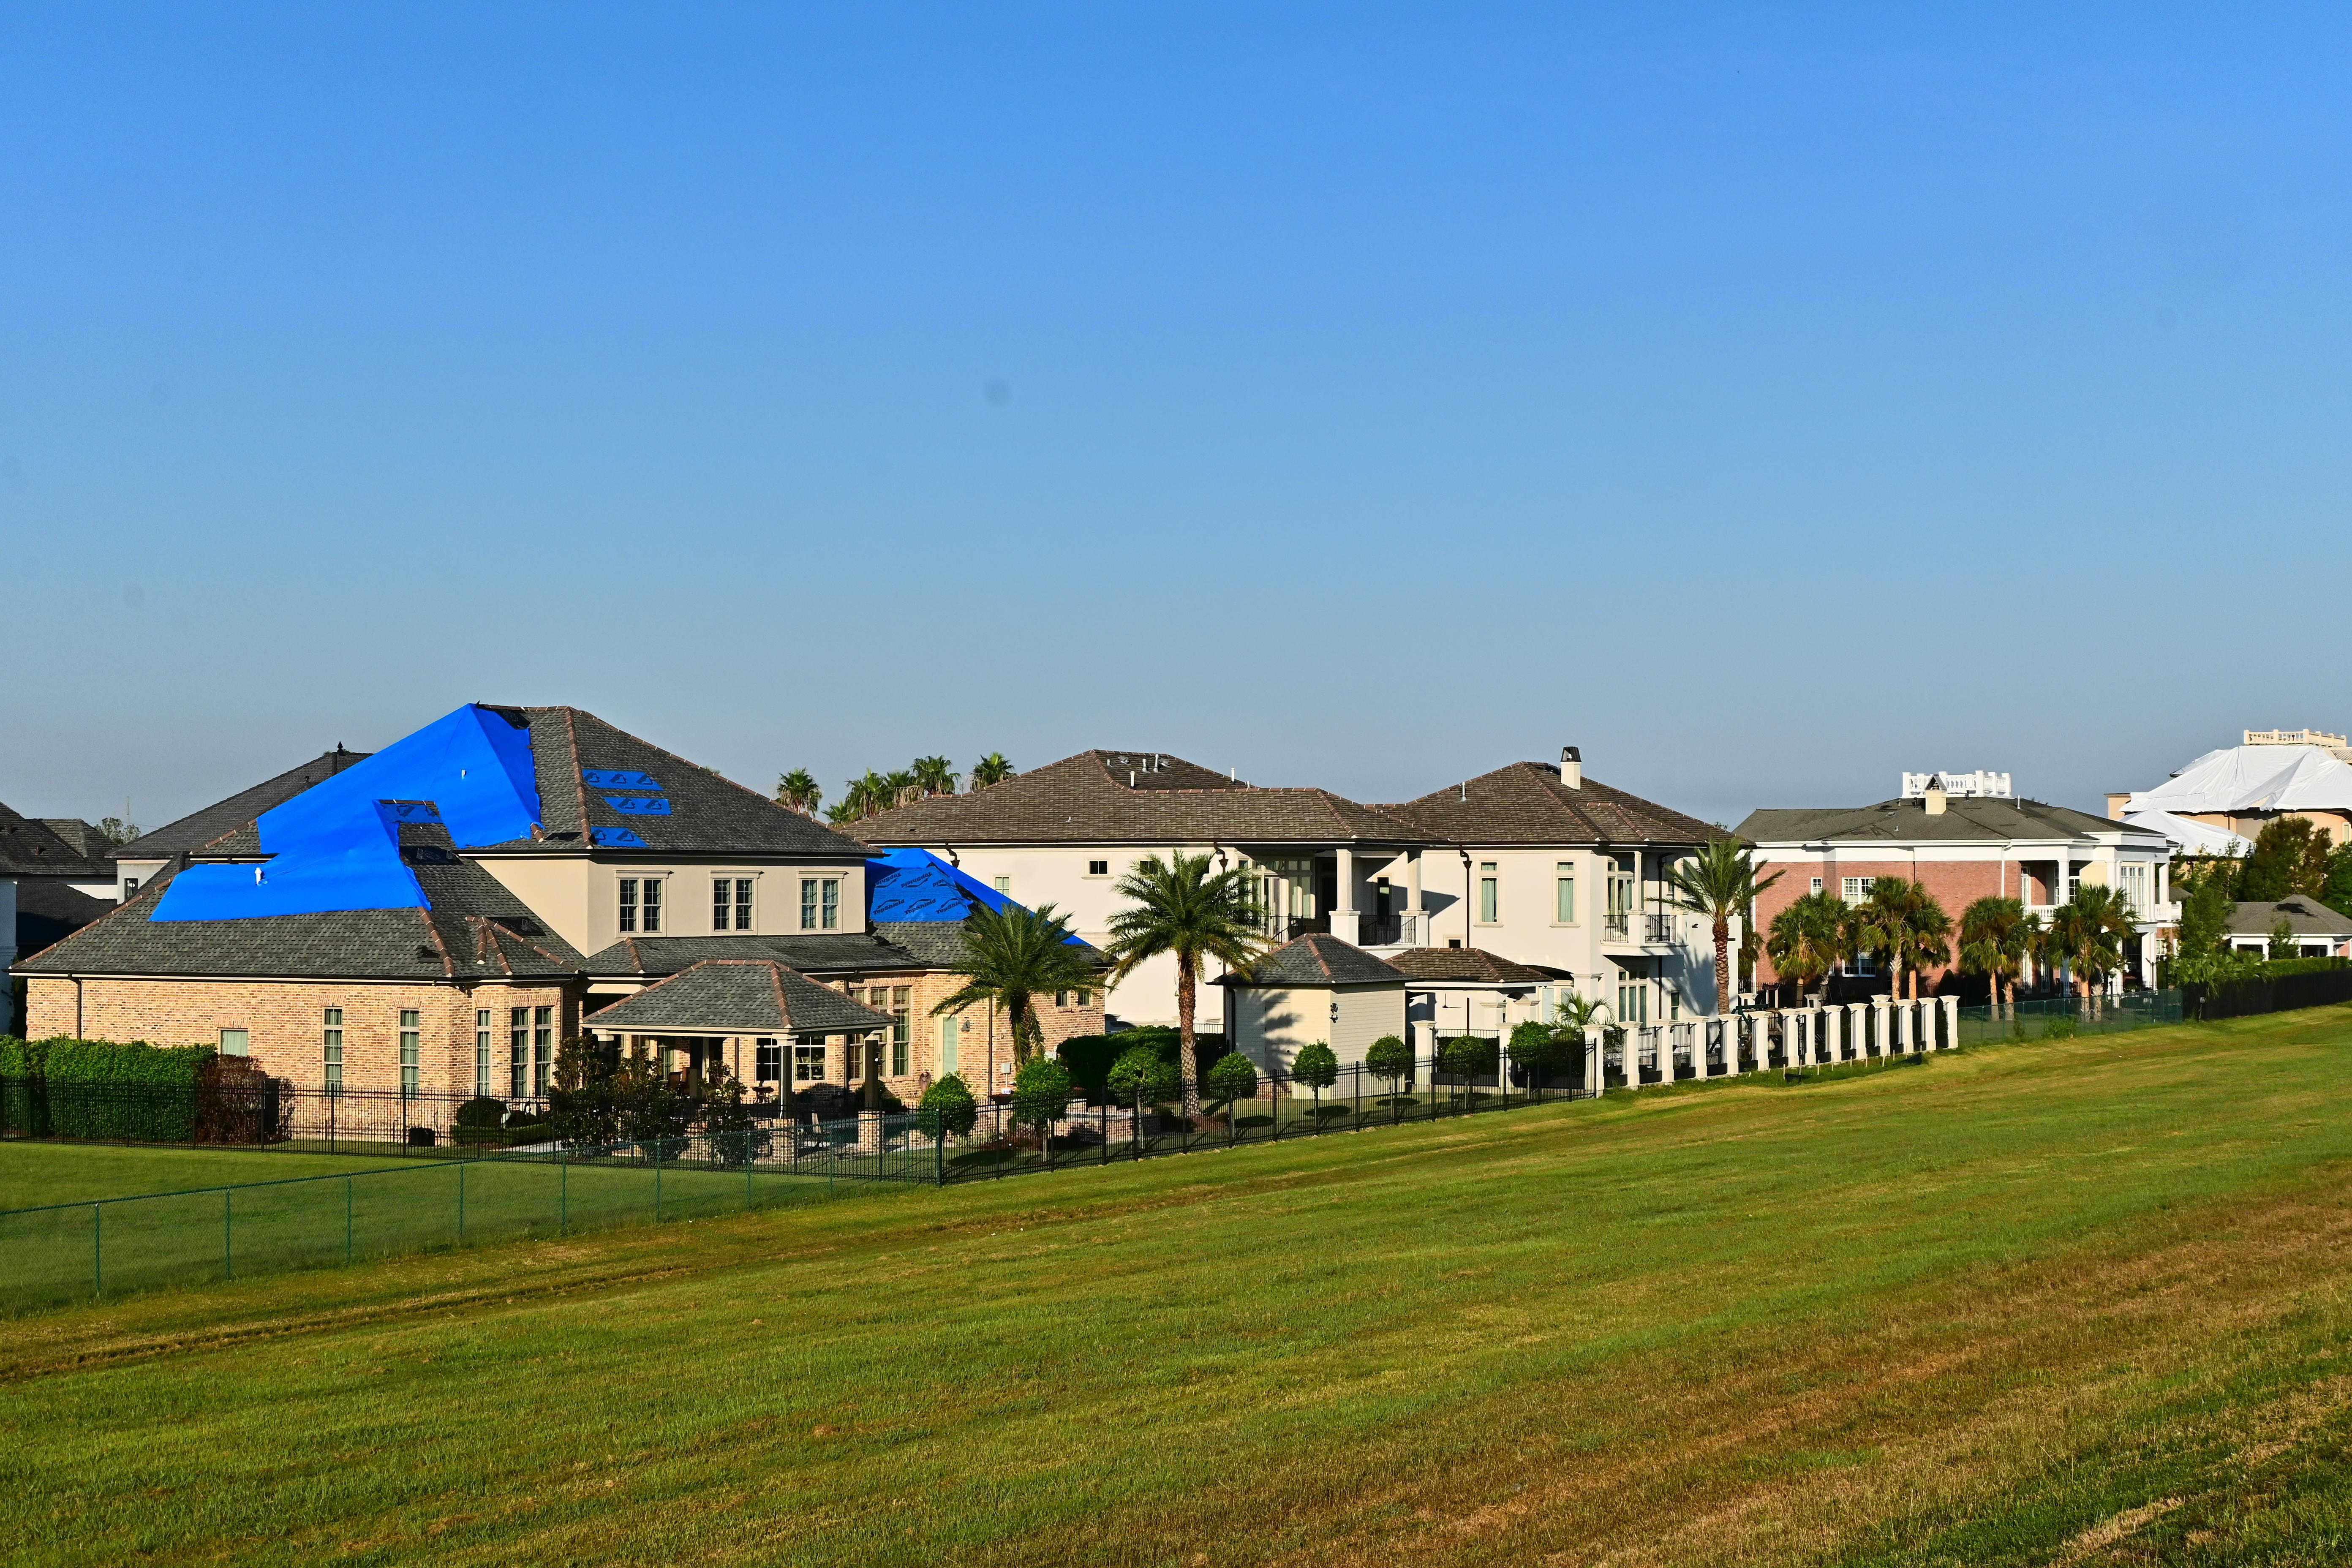affected: (1705, 749, 2191, 1043), (1384, 721, 1778, 1055)
minor: (12, 667, 1172, 1195)
